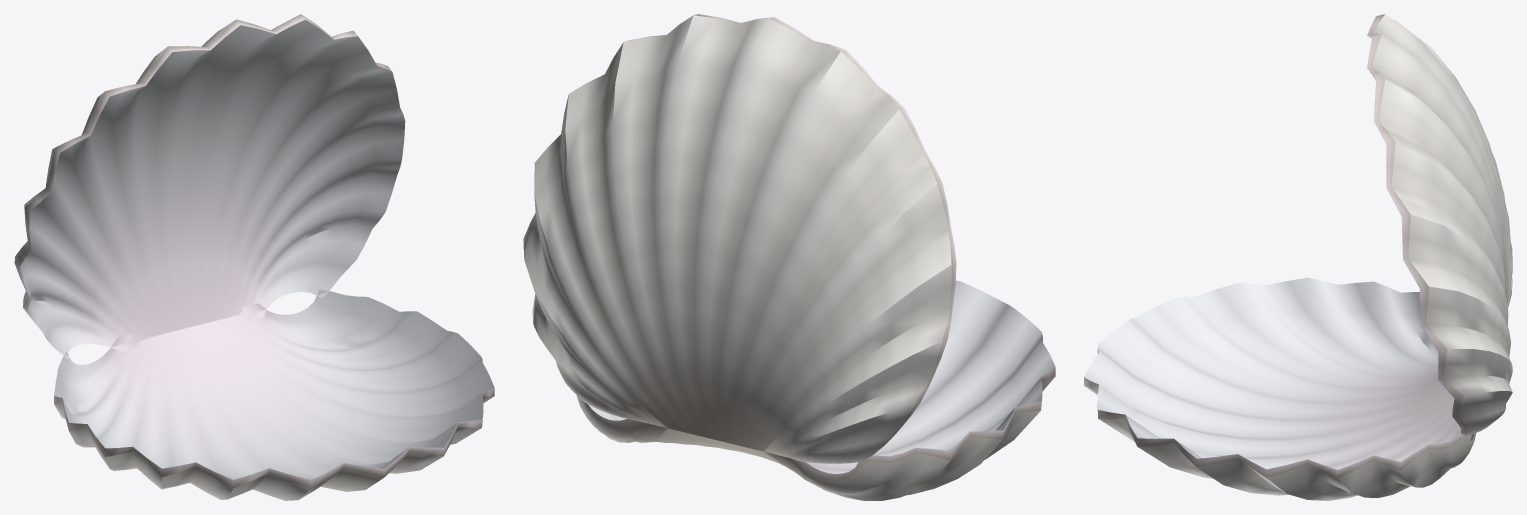
Rendered from Shell.fbx.
The picture shows the model from 3 angles, left to right: view 1: azimuth 30°, elevation 25°; view 2: azimuth 150°, elevation 25°; view 3: azimuth 270°, elevation 25°; orthographic projection. The views are drawn at different scales.
Parts seen in each view (by area): view 1: Shell_Top, Shell_Bottom; view 2: Shell_Top, Shell_Bottom; view 3: Shell_Bottom, Shell_Top.
Boxes of the visible parts, box(x1,y1,x2,y2) form: Shell_Top: box(14, 14, 405, 359); Shell_Bottom: box(54, 289, 494, 500); Shell_Top: box(523, 14, 956, 463); Shell_Bottom: box(576, 280, 1055, 500); Shell_Bottom: box(1084, 277, 1475, 500); Shell_Top: box(1367, 14, 1512, 435).
Bounding box in the file's own units: 0.3057 × 0.3156 × 0.2989.
Materials: 1 (1 with a texture image).
